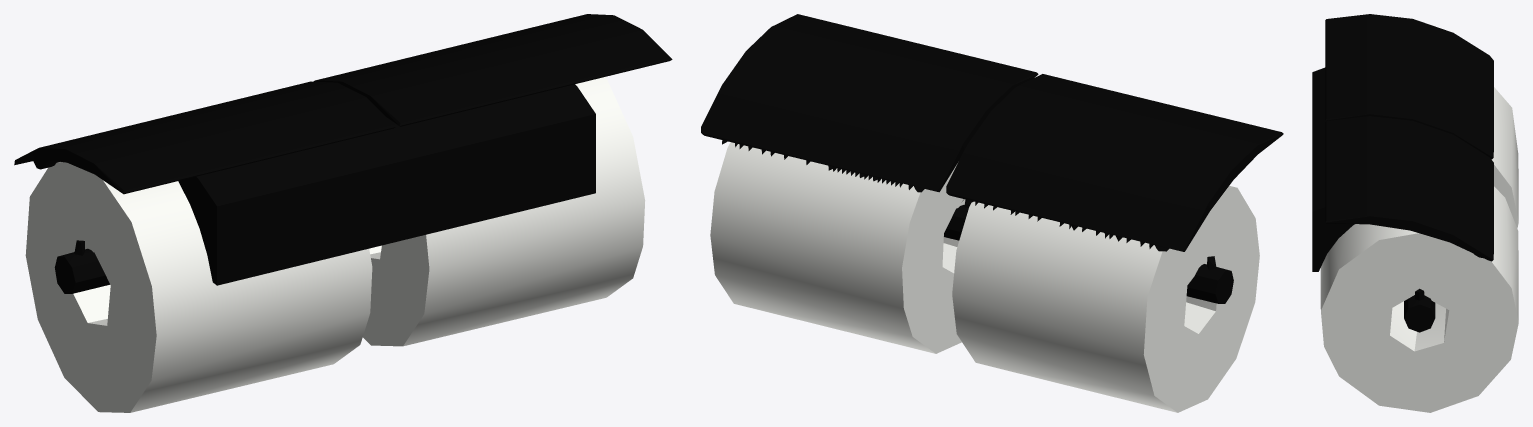
Rendered from SM_ToiletPaper_1.fbx.
3 views of the same model, side by side, from view 1: azimuth 30°, elevation 25°; view 2: azimuth 150°, elevation 25°; view 3: azimuth 270°, elevation 25° (orthographic). The views are drawn at different scales.
Visible parts, largest first — view 1: SM_ToiletPaper_1; view 2: SM_ToiletPaper_1; view 3: SM_ToiletPaper_1.
Boxes of the visible parts, x1,y1,x2,y2 form: SM_ToiletPaper_1: [14, 14, 672, 412]; SM_ToiletPaper_1: [701, 14, 1283, 412]; SM_ToiletPaper_1: [1312, 14, 1518, 412].
Size of the model in its own units: 0.2901 by 0.1386 by 0.125.
Materials: 2 (1 with a texture image).
